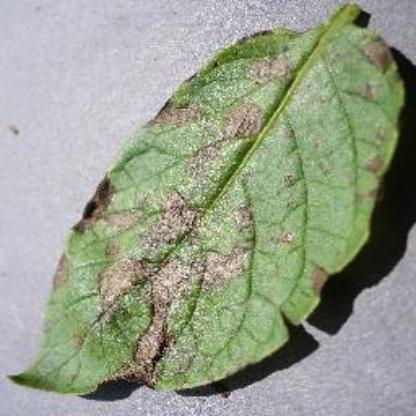Early-Blight: (18, 3, 408, 399)
